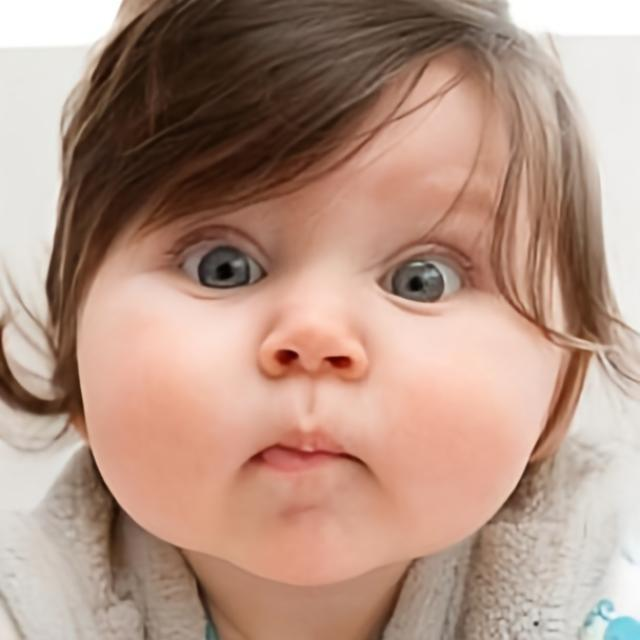surprise: (74, 28, 566, 591)
